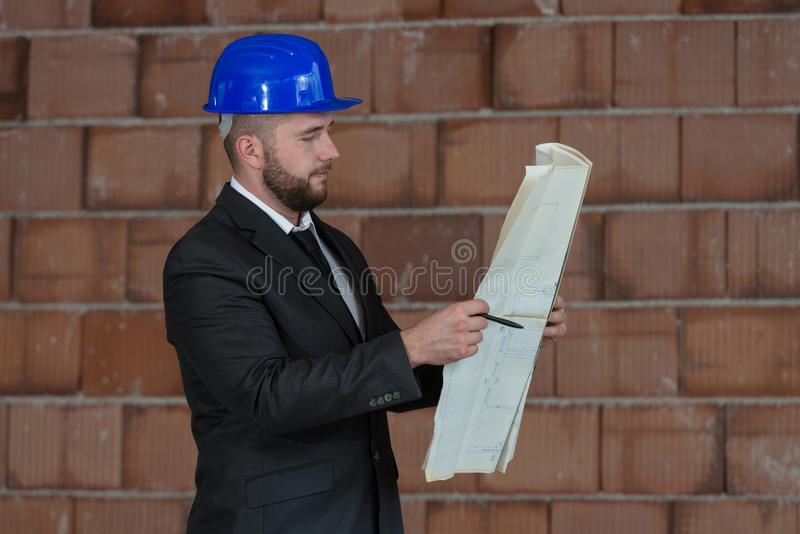helmet: (203, 32, 364, 119)
